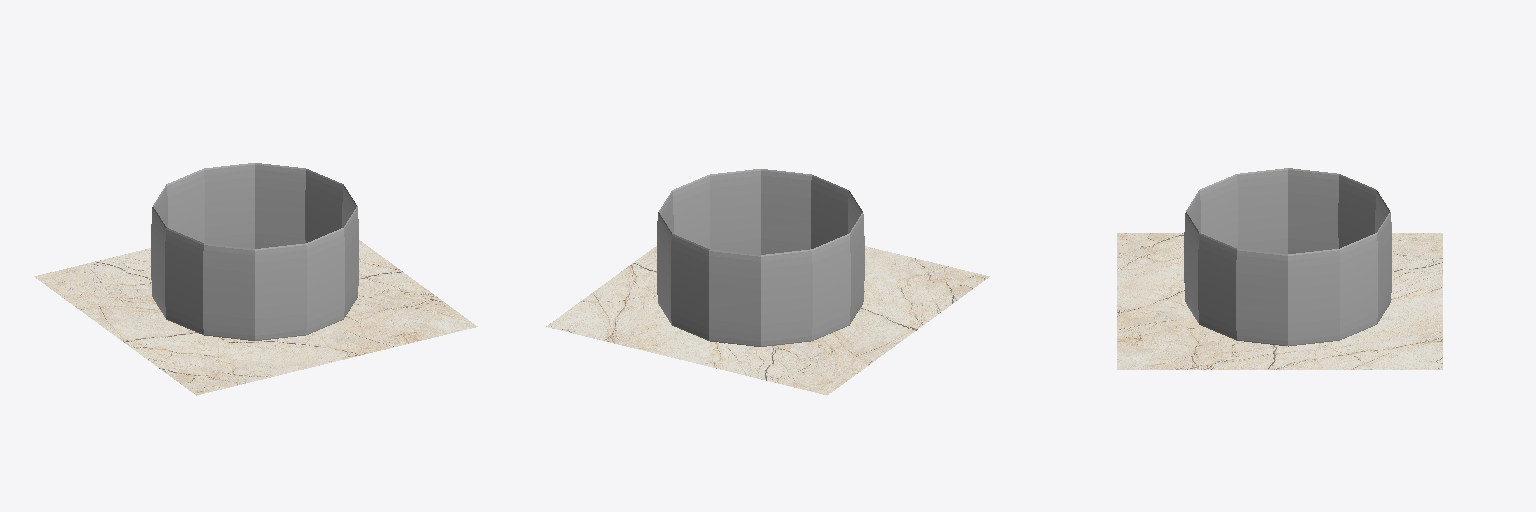
3 views of the same model, side by side, from view 1: azimuth 30°, elevation 25°; view 2: azimuth 150°, elevation 25°; view 3: azimuth 270°, elevation 25° (orthographic).
Visible parts, largest first — view 1: Torus, Plane1; view 2: Torus, Plane1; view 3: Torus, Plane1.
Part boxes in pixels (x1,y1,x2,y2): Torus: (151, 163, 358, 340); Plane1: (34, 240, 477, 395); Torus: (657, 169, 864, 346); Plane1: (546, 246, 989, 395); Torus: (1184, 168, 1391, 346); Plane1: (1117, 233, 1442, 369).
Size of the model in its own units: 209 by 65.74 by 209.
Materials: 2 (1 with a texture image).